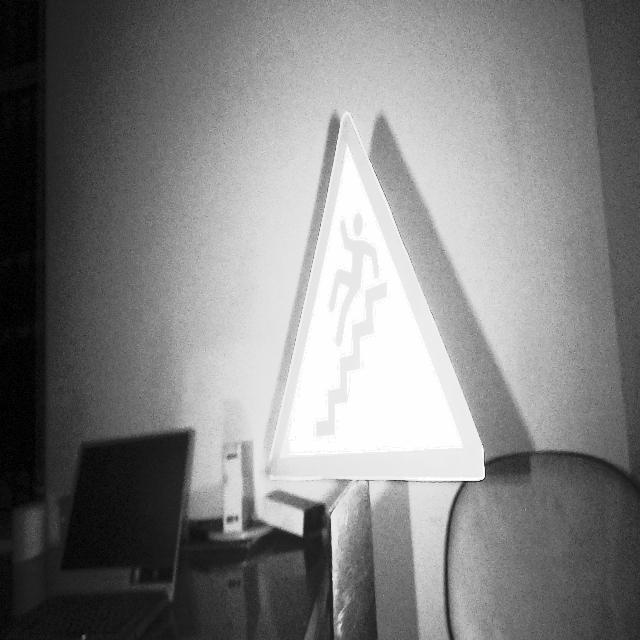Sign: (266, 110, 486, 484)
